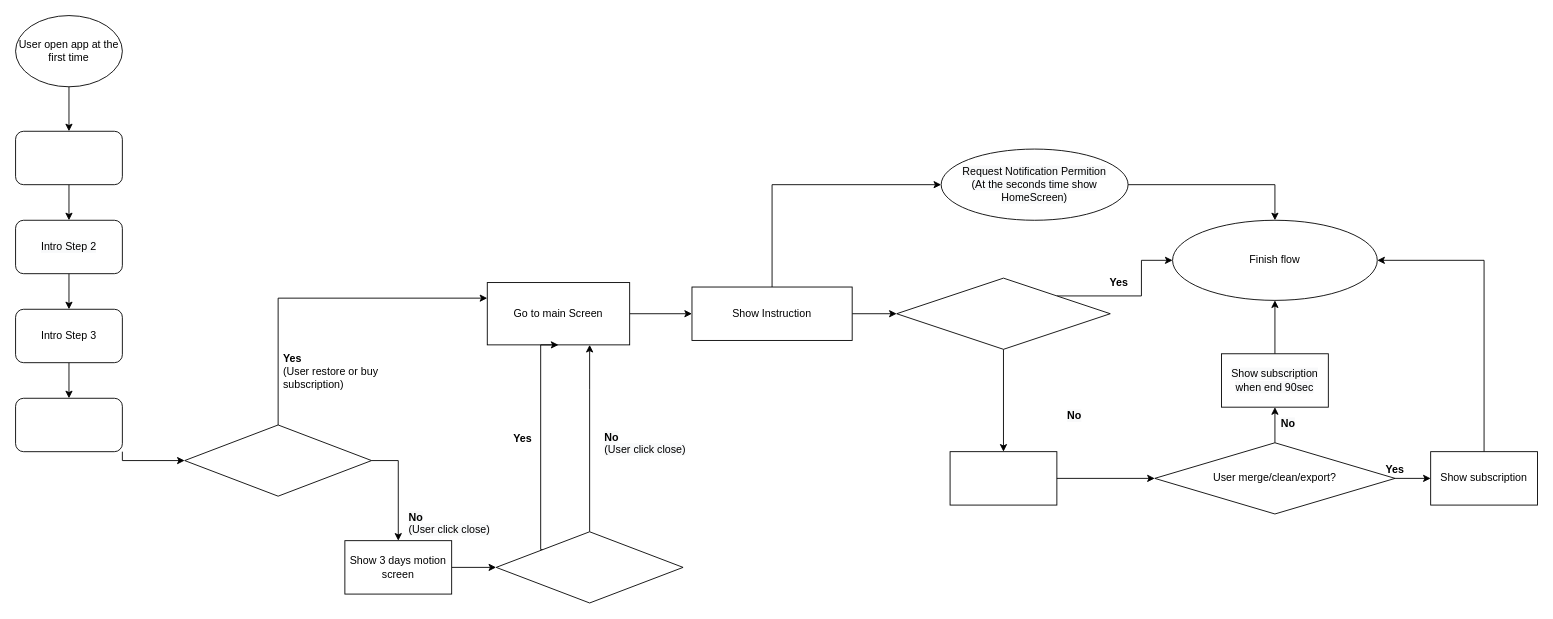
Some shapes in this 1553 by 619 pixel diagram are drawn without their labels. Each missing label, with the centre of its shape:
"Check User Premium" goes at (1003,313).
"Intro Step 1" goes at (68,157).
"Intro Step Subscription" goes at (68,424).
"Start Count Down 90sec secsion" goes at (1003,478).
"User Buy Subscription at Intro" goes at (278,460).
"User by Supscription?" goes at (589,567).
